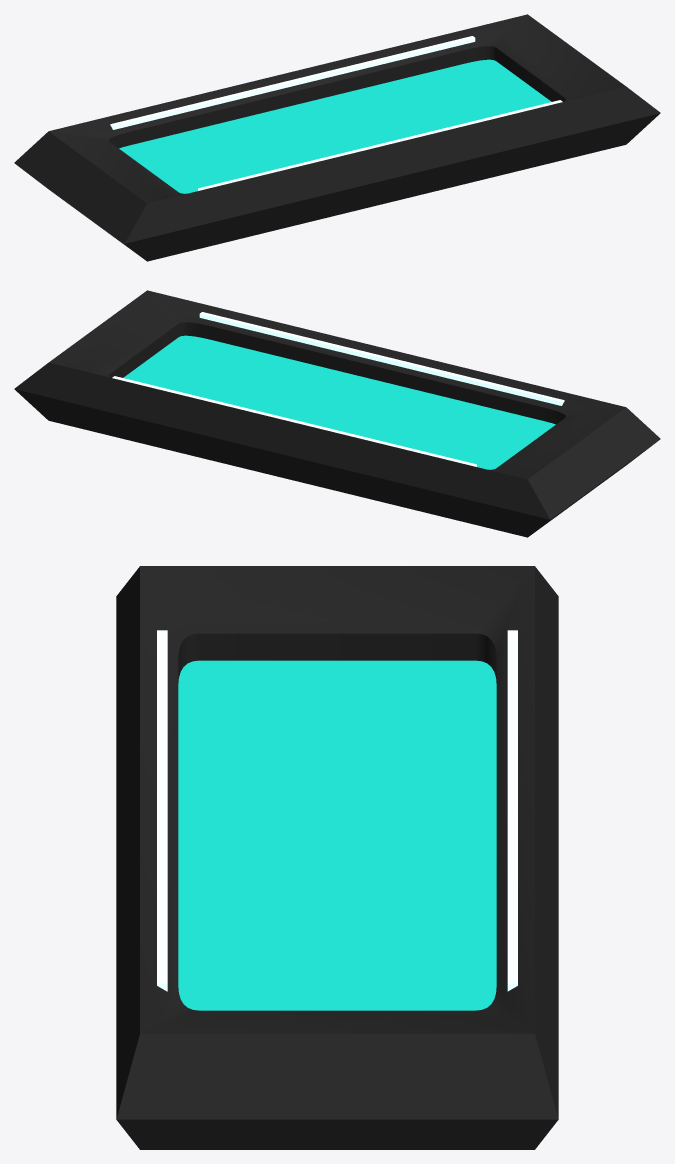
File: ecran rectangulaire.fbx
3 views of the same model, one above another, from view 1: azimuth 30°, elevation 25°; view 2: azimuth 150°, elevation 25°; view 3: azimuth 270°, elevation 25° (orthographic). The views are drawn at different scales.
Parts seen in each view (by area): view 1: Box019; view 2: Box019; view 3: Box019.
Part boxes in pixels (x1,y1,x2,y2): Box019: (14, 14, 660, 261); Box019: (14, 290, 660, 537); Box019: (116, 566, 558, 1149).
Bounding box in the file's own units: 22.86 × 2.37 × 8.16.
